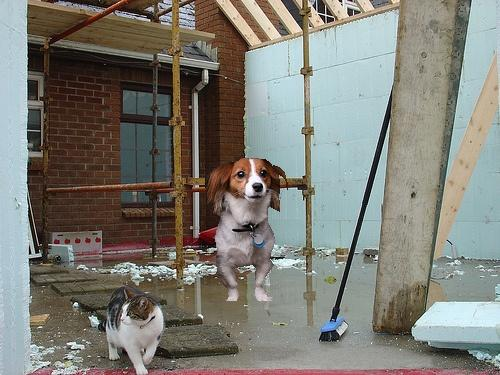tampered: (206, 159, 288, 301)
